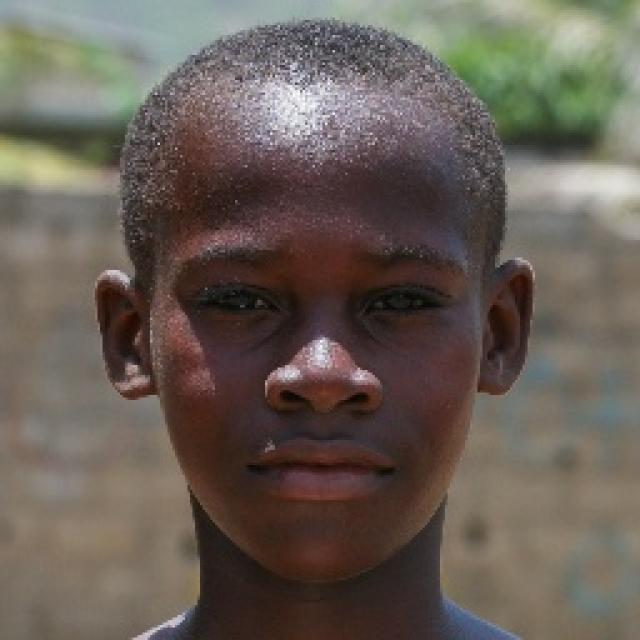earlobe: (116, 363, 156, 401), (477, 357, 508, 398)
eye: (205, 286, 277, 316), (368, 288, 438, 316)
nose: (270, 396, 380, 435)
wholeear: (93, 270, 156, 401), (478, 258, 536, 398)
